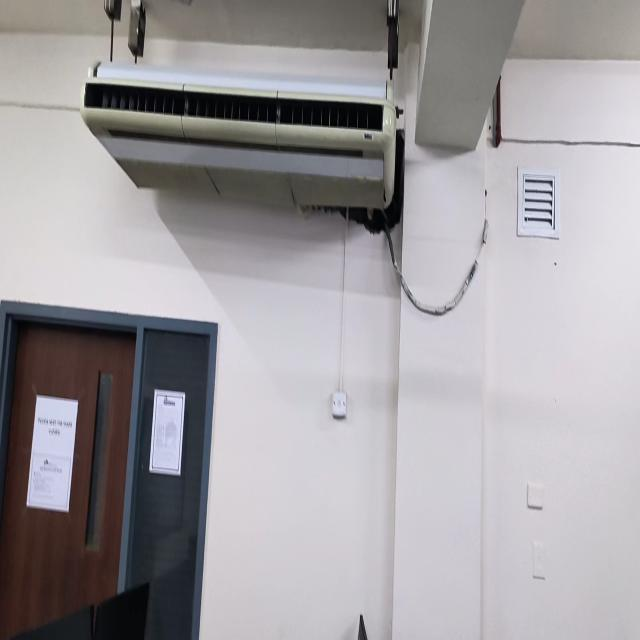Ac: (80, 62, 404, 217)
